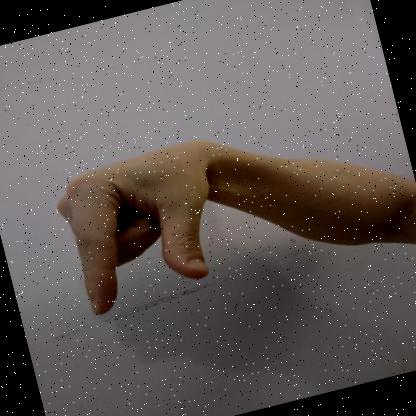Q: (57, 140, 218, 314)
